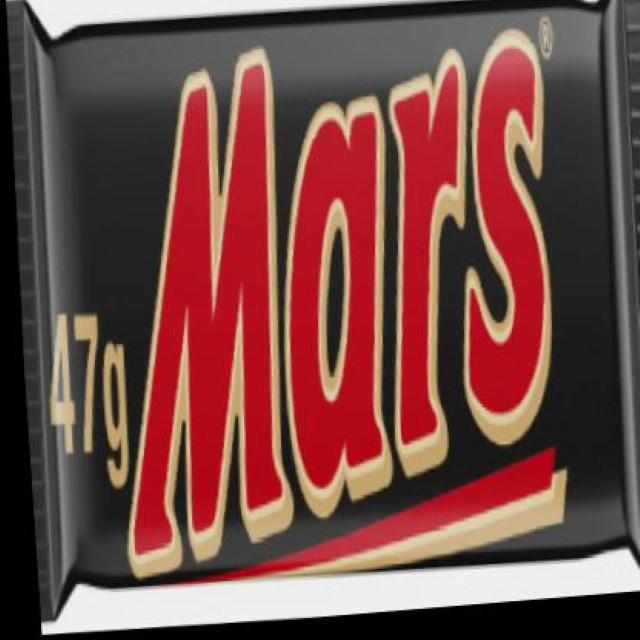mars_chocolate: (15, 41, 640, 556)
